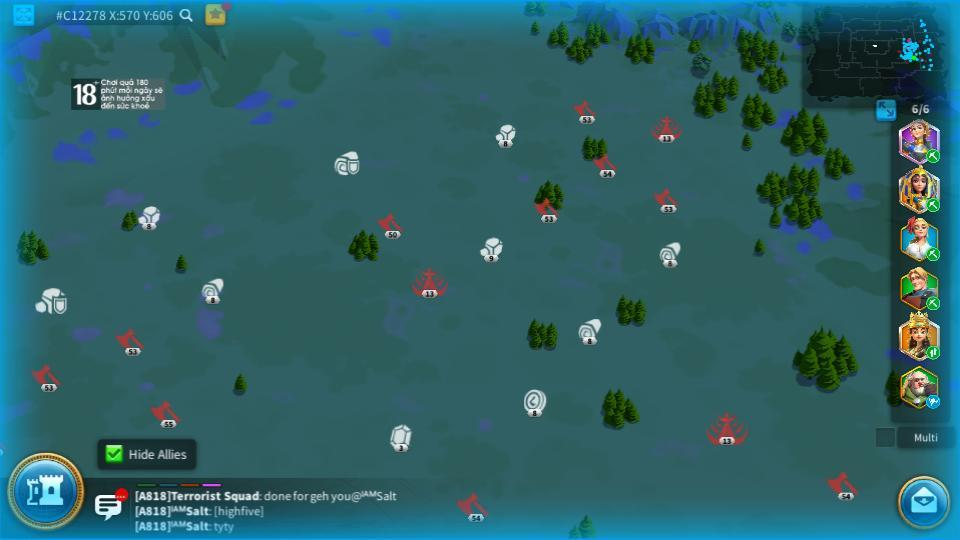gem-z-out: (389, 425, 414, 452)
march_farming: (924, 197, 939, 212), (924, 149, 939, 162), (926, 297, 941, 308)
march_idle: (925, 396, 942, 408)
march_marching: (925, 345, 941, 359)
